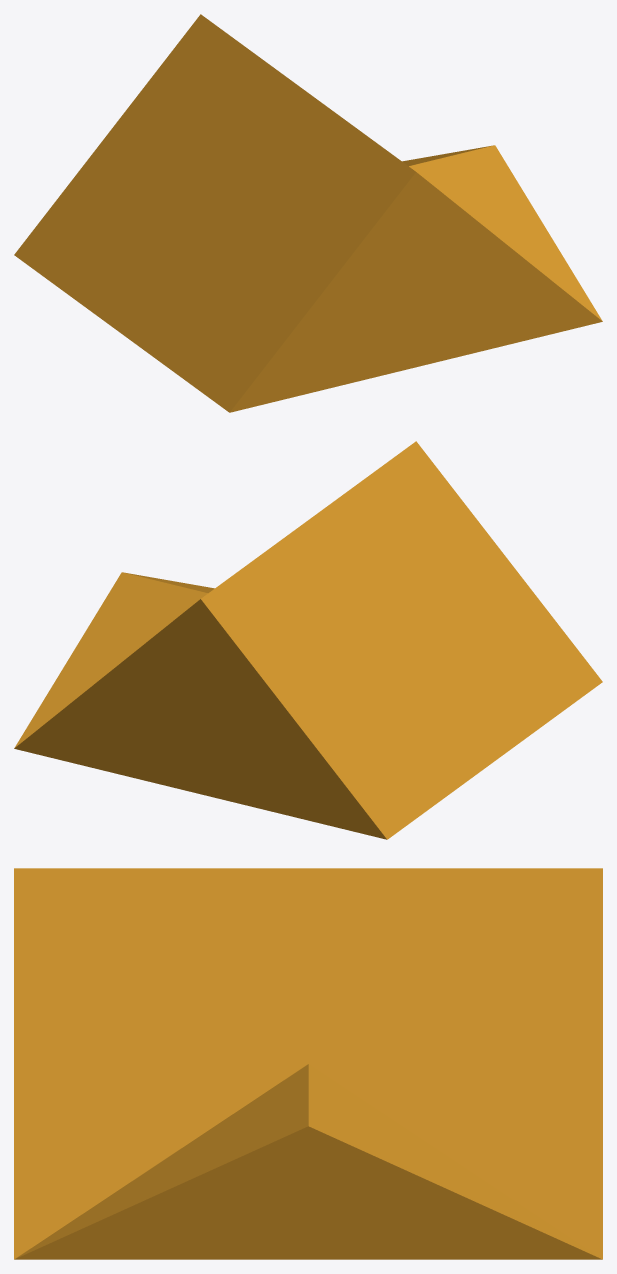
The model's file is Roof-Mid-4x4x2-Gable-Decorative-Ridge.FBX.
3 renders of one model, top to bottom at view 1: azimuth 30°, elevation 25°; view 2: azimuth 150°, elevation 25°; view 3: azimuth 270°, elevation 25°, orthographic. The views are drawn at different scales.
Parts seen in each view (by area): view 1: Roof-Mid-4x4x2-Gable-Decorative-Ridge; view 2: Roof-Mid-4x4x2-Gable-Decorative-Ridge; view 3: Roof-Mid-4x4x2-Gable-Decorative-Ridge.
Part boxes in pixels (box(x1,y1,x2,y2)): Roof-Mid-4x4x2-Gable-Decorative-Ridge: box(14, 14, 602, 412); Roof-Mid-4x4x2-Gable-Decorative-Ridge: box(14, 441, 602, 839); Roof-Mid-4x4x2-Gable-Decorative-Ridge: box(14, 868, 602, 1259).
Bounding box in the file's own units: 40 × 40 × 20.
